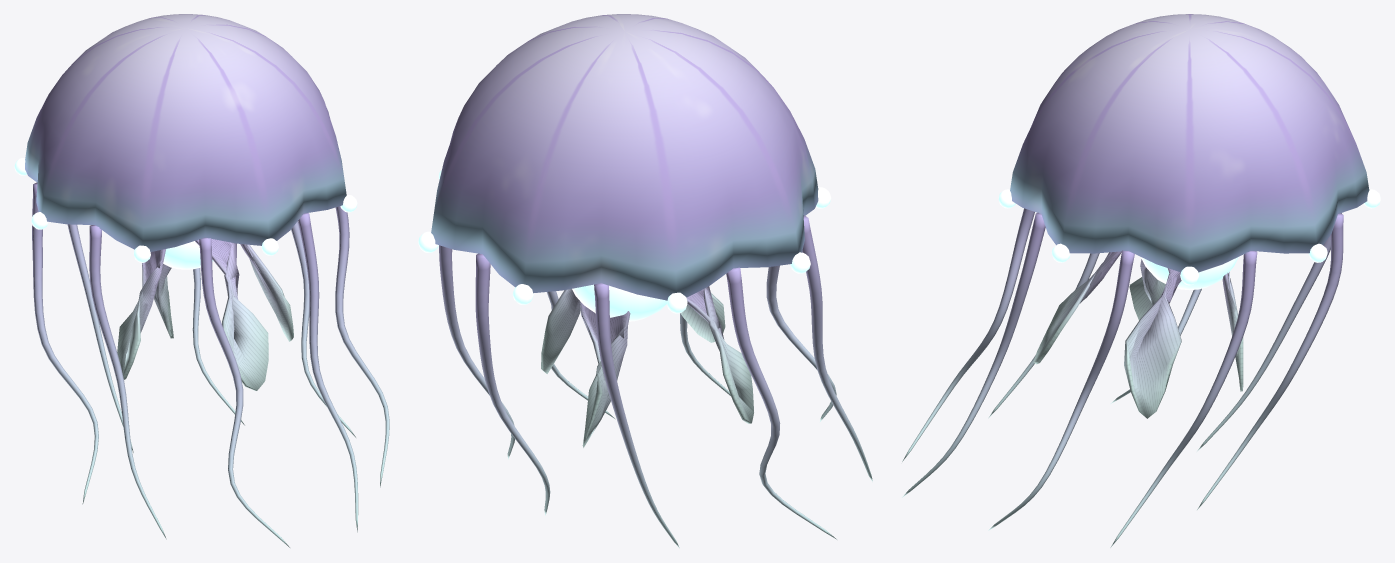
File: PhantomJelly.glb
3 renders of one model, left to right at view 1: azimuth 30°, elevation 25°; view 2: azimuth 150°, elevation 25°; view 3: azimuth 270°, elevation 25°, orthographic. The views are drawn at different scales.
Parts seen in each view (by area): view 1: PhantomJelly, PhantomJelly_Glow; view 2: PhantomJelly, PhantomJelly_Glow; view 3: PhantomJelly, PhantomJelly_Glow.
Part boxes in pixels (x1,y1,x2,y2): PhantomJelly: [25, 14, 389, 547]; PhantomJelly_Glow: [14, 144, 357, 269]; PhantomJelly: [431, 14, 872, 548]; PhantomJelly_Glow: [418, 170, 831, 321]; PhantomJelly: [902, 14, 1369, 547]; PhantomJelly_Glow: [998, 189, 1380, 290].
Size of the model in its own units: 1.03 by 1.34 by 1.29.
Materials: 2 (1 with a texture image).
